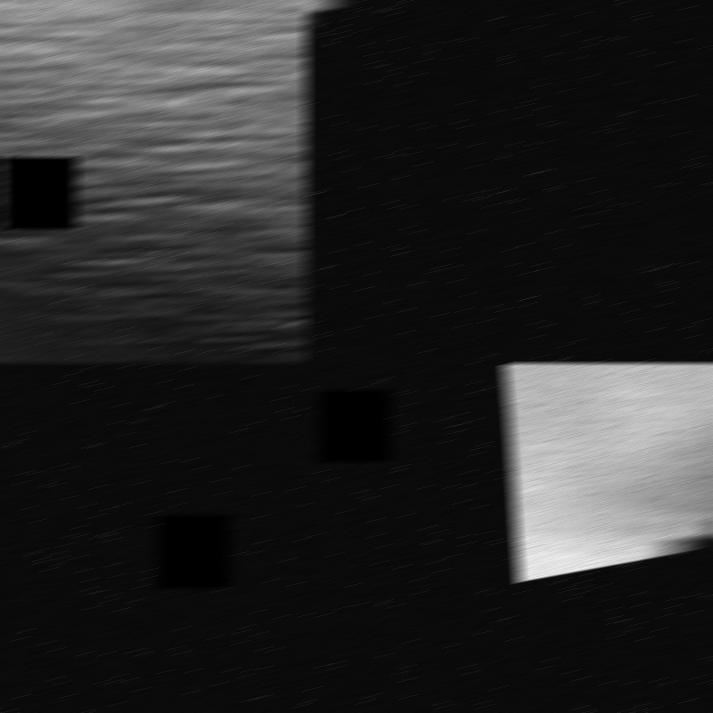Airbag: (0, 0, 308, 362), (506, 364, 713, 580)
